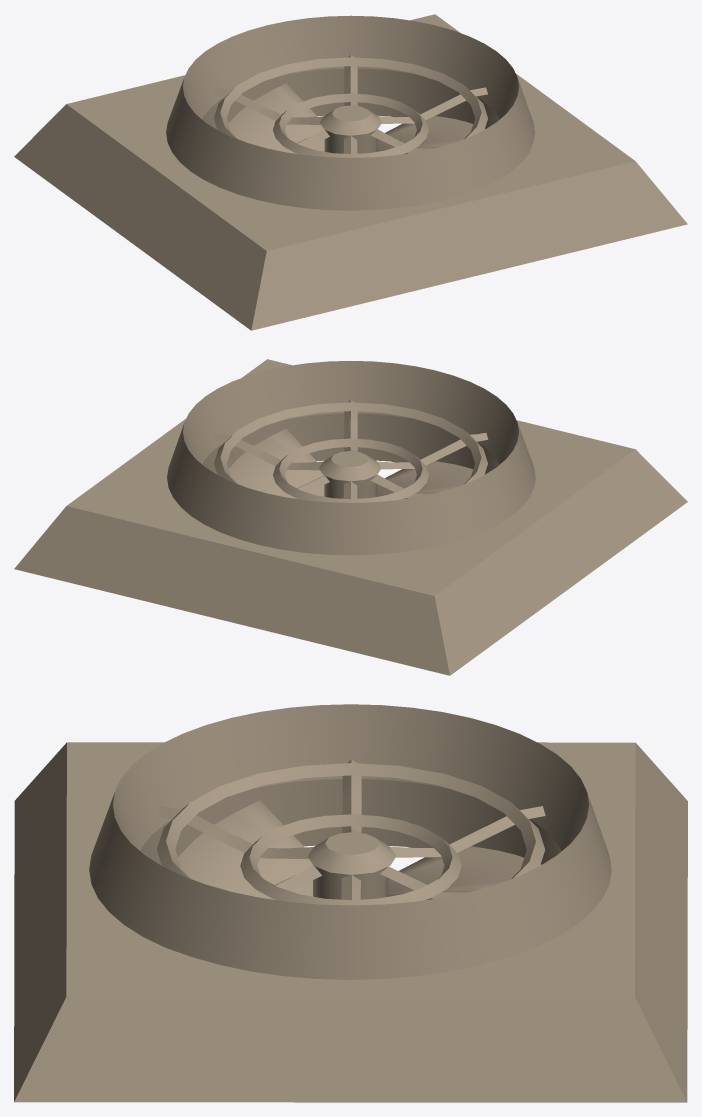
Rendered from Industrial_Fan.fbx.
The picture shows the model from 3 angles, top to bottom: view 1: azimuth 30°, elevation 25°; view 2: azimuth 150°, elevation 25°; view 3: azimuth 270°, elevation 25°; orthographic projection. The views are drawn at different scales.
Visible parts, largest first — view 1: Industrial_Fan_1, Industrial_Fan_2; view 2: Industrial_Fan_1, Industrial_Fan_2; view 3: Industrial_Fan_1, Industrial_Fan_2.
Part boxes in pixels (<box>): Industrial_Fan_1: <box>14,14,687,330</box>; Industrial_Fan_2: <box>228,83,485,154</box>; Industrial_Fan_1: <box>14,359,687,675</box>; Industrial_Fan_2: <box>228,429,485,499</box>; Industrial_Fan_1: <box>14,704,687,1102</box>; Industrial_Fan_2: <box>178,800,541,900</box>.
Size of the model in its own units: 297 by 67.43 by 280.
